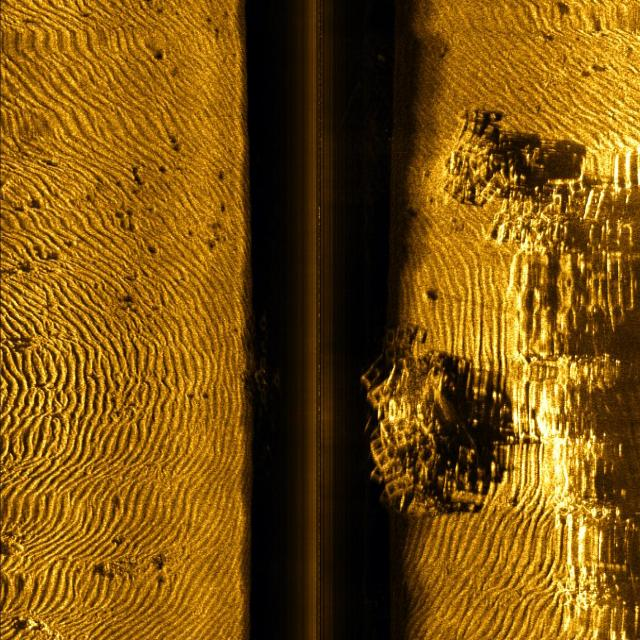artificial reef: (357, 330, 476, 521), (444, 114, 572, 258), (240, 293, 288, 412)
